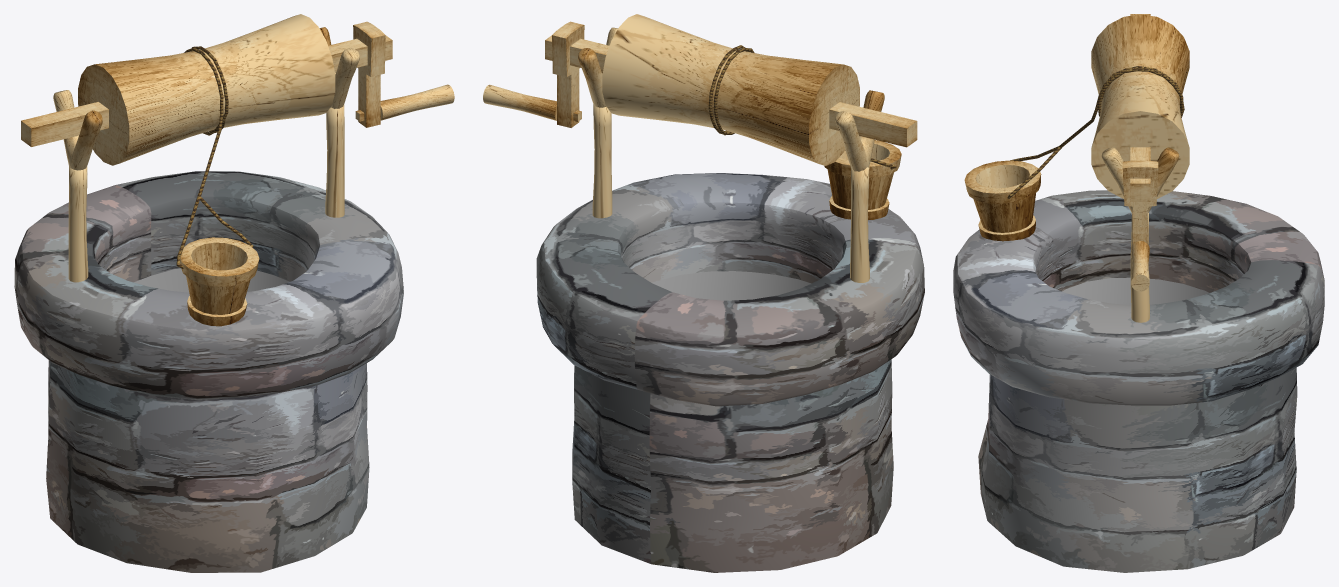
The model's file is Ani360_Kuyu.fbx.
3 views of the same model, side by side, from view 1: azimuth 30°, elevation 25°; view 2: azimuth 150°, elevation 25°; view 3: azimuth 270°, elevation 25° (orthographic). The views are drawn at different scales.
Parts seen in each view (by area): view 1: Tube003, Cylinder003, Tube004, Line002, Line001, Box001, Box002, Line004, Cylinder002; view 2: Tube003, Cylinder003, Line002, Line001, Tube004, Box001, Box002, Cylinder002, Line004; view 3: Tube003, Cylinder003, Tube004, Line001, Box002, Line004, Cylinder002, Box001.
Part boxes in pixels (x1,y1,x2,y2): Tube003: [14, 171, 403, 572]; Cylinder003: [78, 14, 335, 165]; Tube004: [180, 237, 259, 326]; Line002: [53, 90, 102, 282]; Line001: [319, 27, 359, 217]; Box001: [21, 35, 392, 146]; Box002: [353, 21, 385, 127]; Line004: [176, 46, 253, 268]; Cylinder002: [380, 84, 454, 120]; Tube003: [536, 173, 924, 572]; Cylinder003: [602, 14, 859, 165]; Line002: [835, 90, 884, 282]; Line001: [578, 27, 617, 218]; Tube004: [824, 140, 901, 219]; Box001: [545, 35, 917, 147]; Box002: [552, 21, 584, 127]; Cylinder002: [483, 84, 556, 120]; Line004: [708, 45, 896, 169]; Tube003: [953, 190, 1324, 572]; Cylinder003: [1091, 14, 1189, 198]; Tube004: [964, 160, 1041, 241]; Line001: [1101, 147, 1179, 322]; Box002: [1122, 160, 1158, 244]; Line004: [1007, 66, 1184, 198]; Cylinder002: [1131, 241, 1149, 291]; Box001: [1130, 14, 1150, 201].
Bounding box in the file's own units: 74.37 × 77.99 × 58.66.
